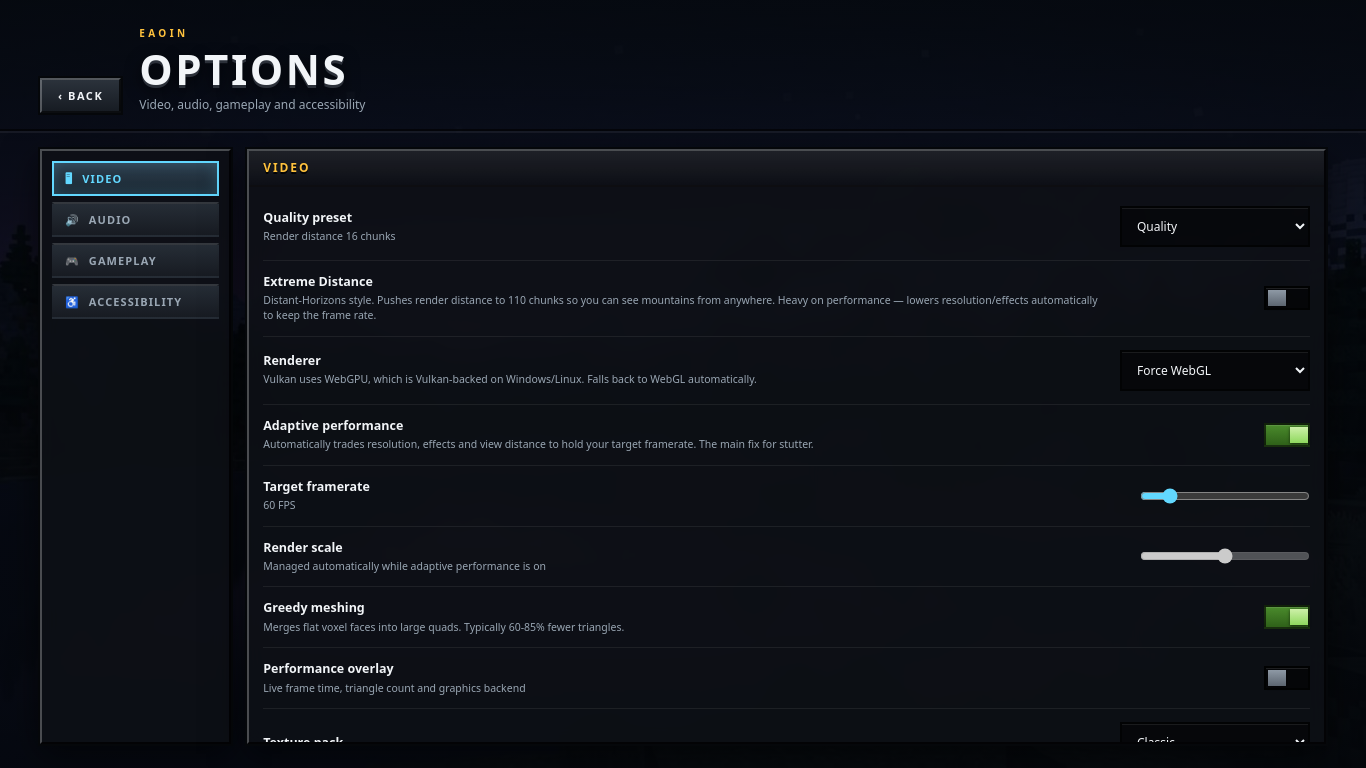
Scenario: OptionsScreen › switches to the accessibility section
Step 1. Click the button "♿ Accessibility" → (136, 302), box top-left (52, 284), bottom-right (219, 319)
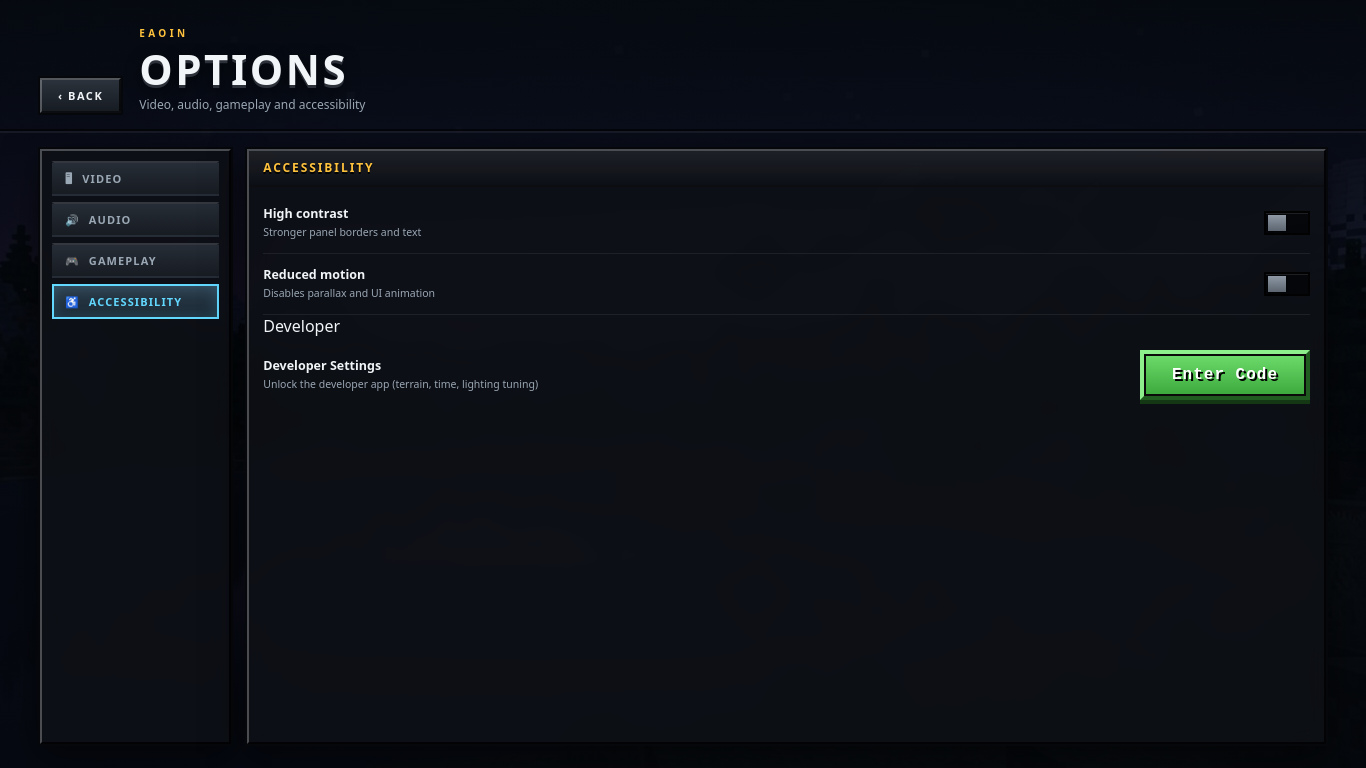
Expected: the text "Reduced motion" is shown, top-left (263, 266), bottom-right (365, 283)
